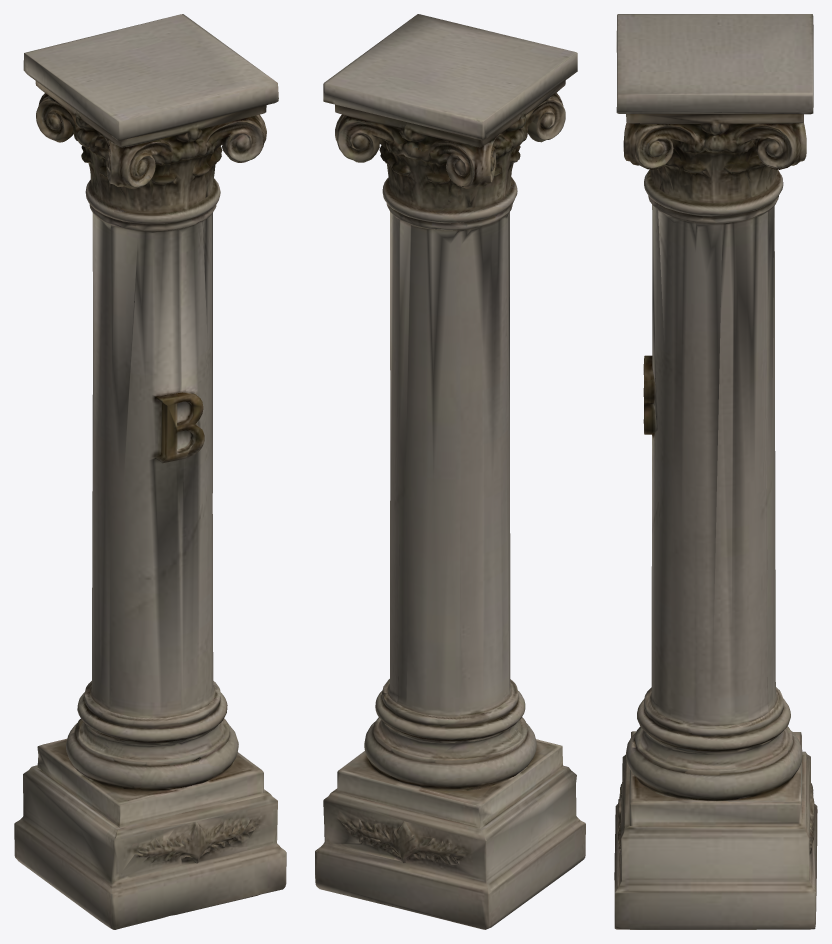
File: boaz.lean.glb
3 views of the same model, side by side, from view 1: azimuth 30°, elevation 25°; view 2: azimuth 150°, elevation 25°; view 3: azimuth 270°, elevation 25° (orthographic). The views are drawn at different scales.
Visible parts, largest first — view 1: node_0; view 2: node_0; view 3: node_0.
Part boxes in pixels (box(x1,y1,x2,y2)): node_0: box(14, 14, 286, 929); node_0: box(315, 14, 585, 929); node_0: box(614, 14, 817, 929).
Size of the model in its own units: 0.2614 by 1.15 by 0.2535.
Materials: 1 (1 with a texture image).
